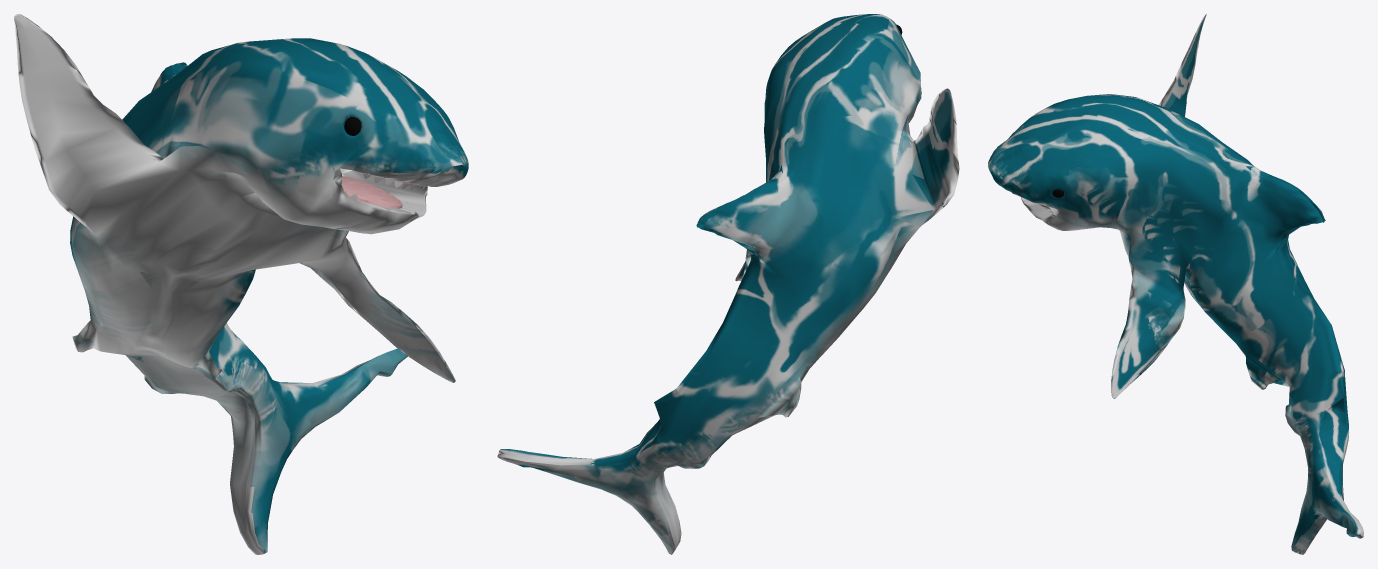
File: Pose_sharky_02.glb
3 views of the same model, side by side, from view 1: azimuth 30°, elevation 25°; view 2: azimuth 150°, elevation 25°; view 3: azimuth 270°, elevation 25° (orthographic). The views are drawn at different scales.
Parts seen in each view (by area): view 1: bob, bottom gum; view 2: bob; view 3: bob.
Part boxes in pixels (x1=…): bob: x1=14, y1=14, x2=468, y2=554; bottom gum: x1=341, y1=176, x2=402, y2=208; bob: x1=497, y1=14, x2=959, y2=554; bob: x1=988, y1=14, x2=1363, y2=554.
Bounding box in the file's own units: 2.03 × 2.53 × 1.95.
Materials: 3 (1 with a texture image).
